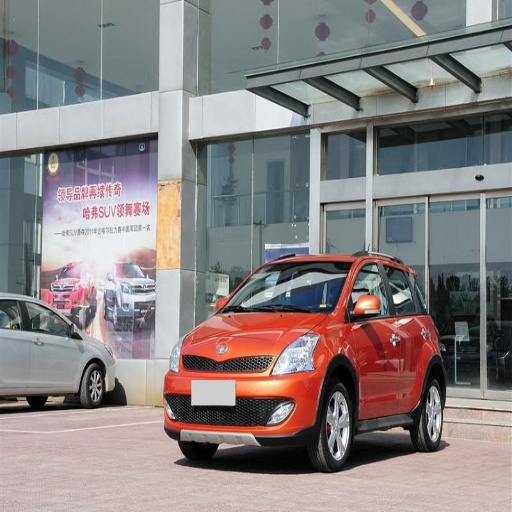front_bumper: (169, 354, 323, 440)
front_glass: (218, 262, 347, 313)
front_left_door: (347, 257, 400, 415)
front_left_light: (272, 335, 316, 376)
front_right_door: (23, 300, 79, 383)
